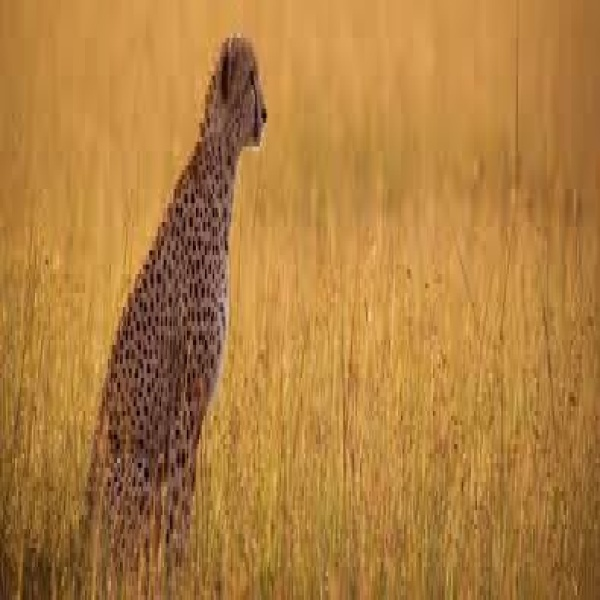Cheetah: (77, 30, 275, 580)
